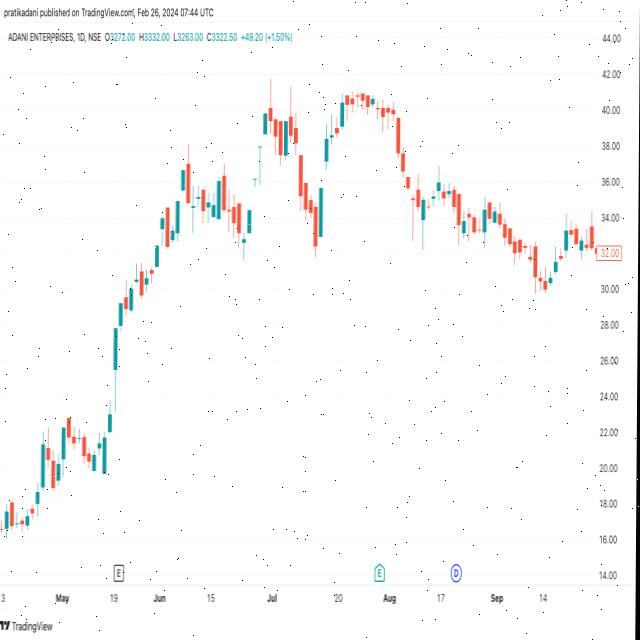Gap Down: (405, 171, 426, 247)
Gap Up: (243, 118, 269, 250), (317, 134, 332, 242), (173, 163, 185, 247)
